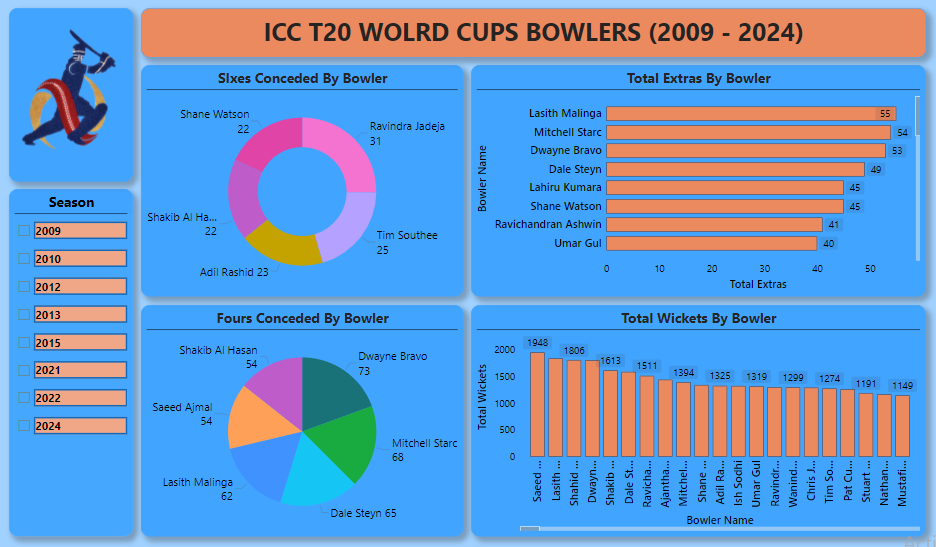

What the dashboard file says about the page in this screenshot:
{"tool":"powerbi","page":{"name":"Bowlers","canvas":[1830,1080],"ordinal":2},"visuals":[{"type":"pieChart","title":"Fours Conceded By Bowler","fields":{"Category":["players.Full Name"],"Y":["Bowlers.Fours"]},"box":[288,608,624,448],"z":0},{"type":"donutChart","title":"SIxes Conceded By Bowler","fields":{"Category":["players.Full Name"],"Y":["Bowlers.Sixes"]},"box":[288,144,624,448],"z":1000},{"type":"clusteredColumnChart","title":"Total Wickets By Bowler","fields":{"Category":["players.Full Name"],"Y":["Sum(Bowlers.totalWickets)"]},"box":[928,608,880,448],"z":2000},{"type":"barChart","title":"Total Extras By Bowler","fields":{"Category":["players.Full Name"],"Y":["Sum(Bowlers.TotalExtras)"]},"box":[928,144,880,448],"z":3000},{"type":"slicer","title":"Season","fields":{"Values":["season.season"]},"box":[32,384,240,672],"z":4000},{"type":"image","box":[32,32,240,336],"z":5000},{"type":"textbox","box":[288,32,1520,96],"z":6000}]}

Visuals, with their boxes in screenshot pixels (x1, y1, x2, y2), scaled from the page's 1830x1080 canvas onto the 936x547 screenshot:
"Fours Conceded By Bowler" pieChart: <bbox>147, 308, 466, 535</bbox>
"SIxes Conceded By Bowler" donutChart: <bbox>147, 73, 466, 300</bbox>
"Total Wickets By Bowler" clusteredColumnChart: <bbox>475, 308, 925, 535</bbox>
"Total Extras By Bowler" barChart: <bbox>475, 73, 925, 300</bbox>
"Season" slicer: <bbox>16, 194, 139, 535</bbox>
image: <bbox>16, 16, 139, 186</bbox>
textbox: <bbox>147, 16, 925, 65</bbox>
